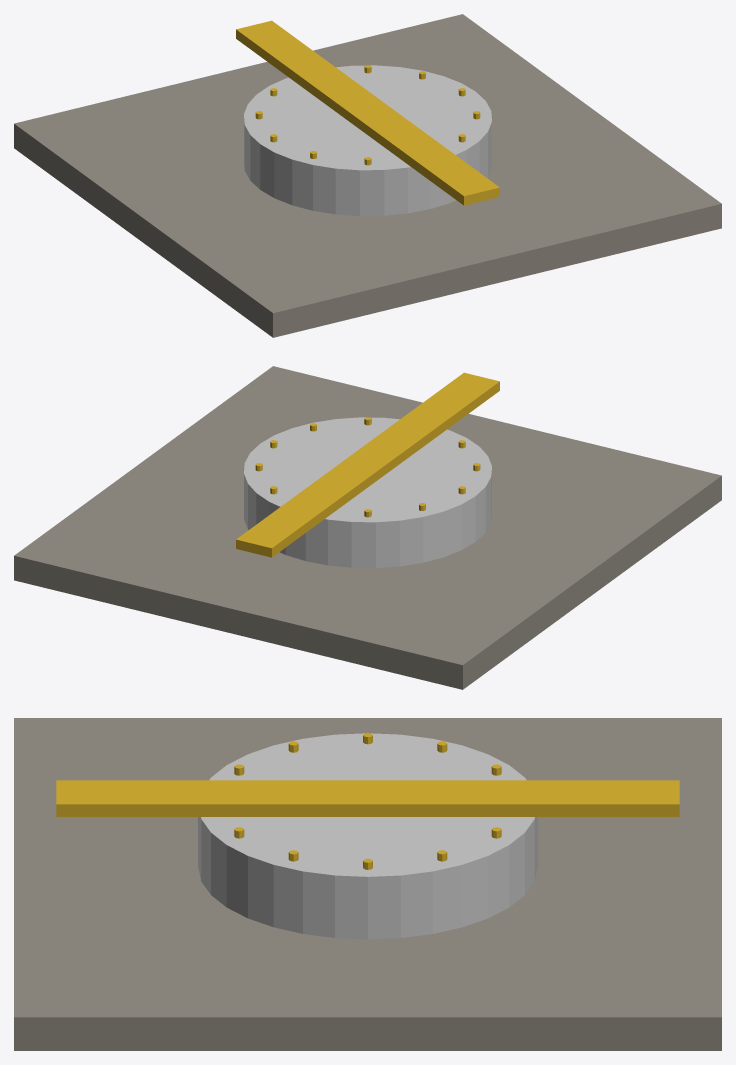
The model's file is silo_blast_leaf.obj.
The picture shows the model from 3 angles, top to bottom: view 1: azimuth 30°, elevation 25°; view 2: azimuth 150°, elevation 25°; view 3: azimuth 270°, elevation 25°; orthographic projection. The views are drawn at different scales.
Parts seen in each view (by area): view 1: silo_blast_leaf; view 2: silo_blast_leaf; view 3: silo_blast_leaf.
Boxes of the visible parts, left/top/right/bottom form: silo_blast_leaf: left=14, top=14, right=721, bottom=337; silo_blast_leaf: left=14, top=366, right=721, bottom=689; silo_blast_leaf: left=14, top=718, right=721, bottom=1050.
Size of the model in its own units: 2 by 0.34 by 2.
